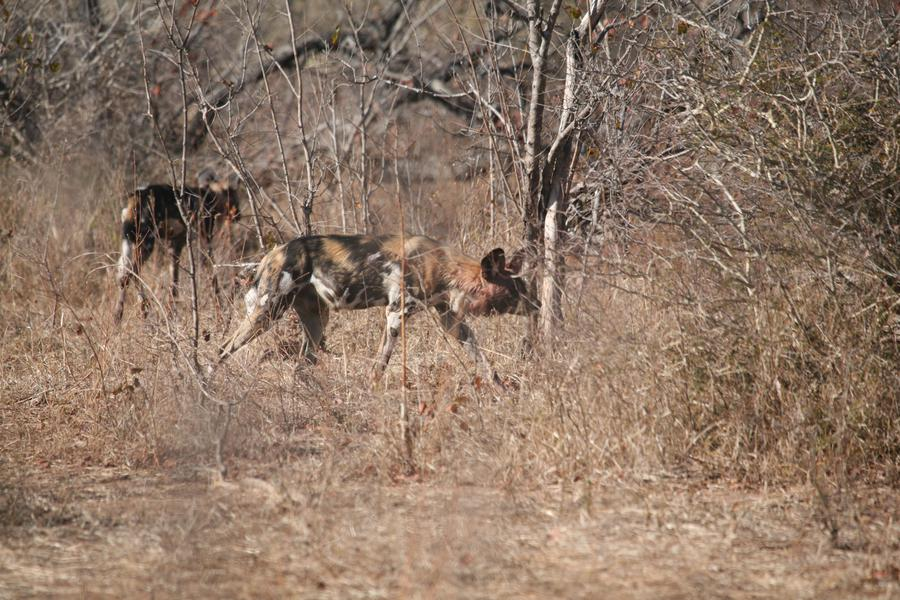wilddog: (253, 239, 536, 338), (105, 169, 236, 325)
